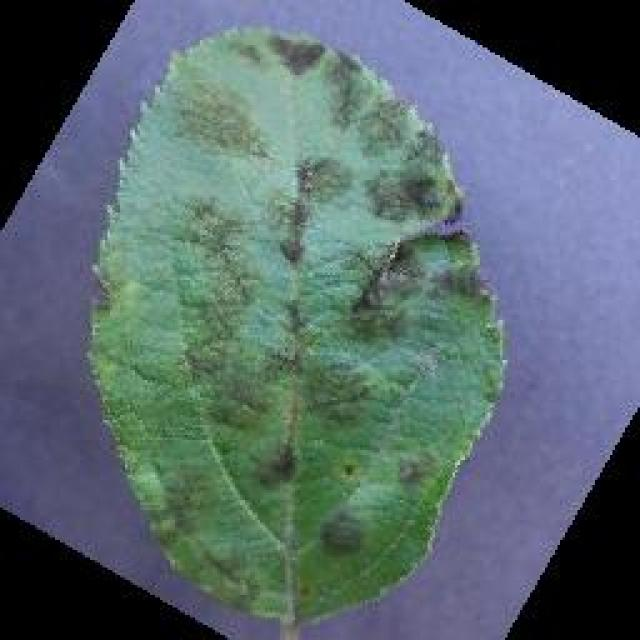apple scab disease: (82, 20, 508, 635)
